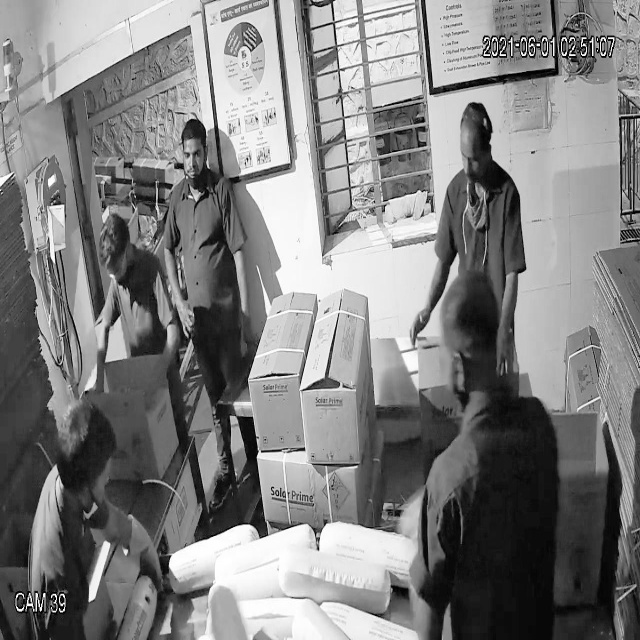Sin_gafas: (454, 142, 496, 170), (177, 141, 210, 170)
